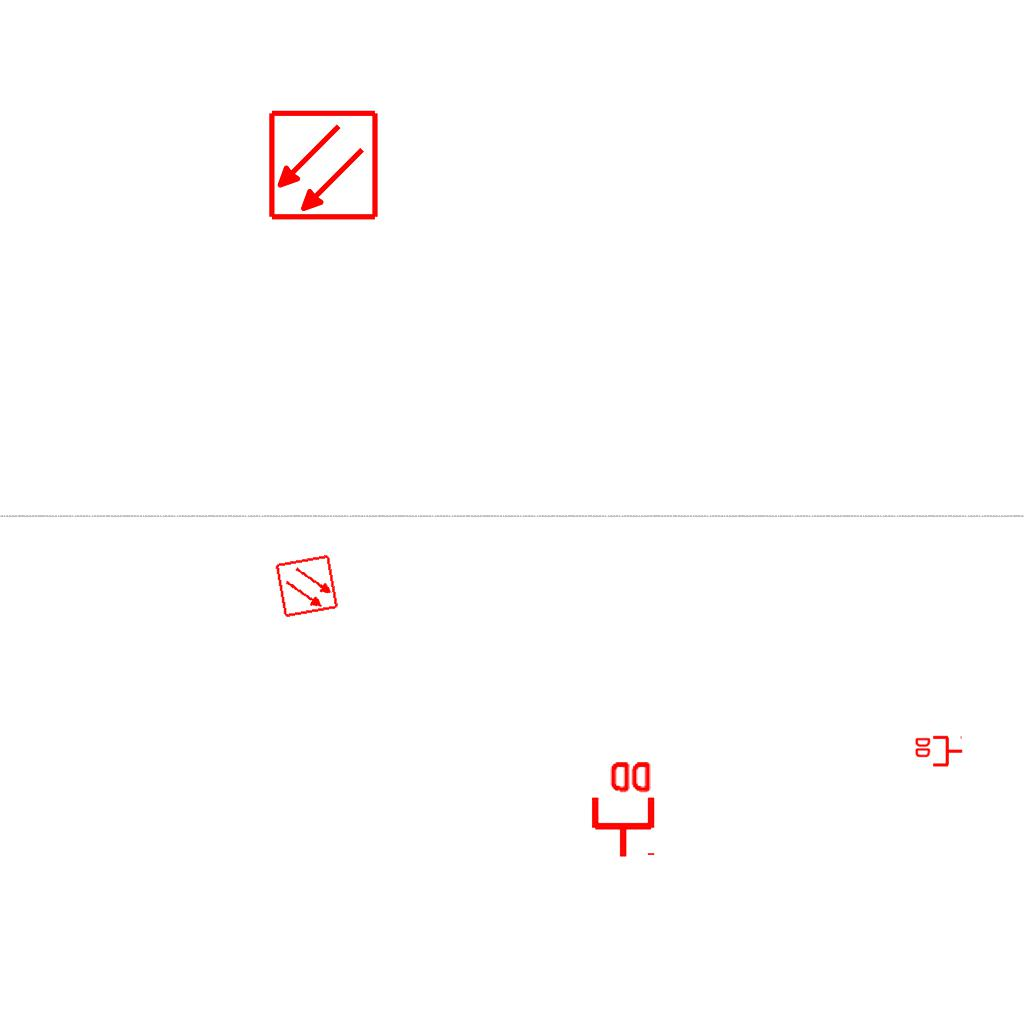Datenanschluss_zweifach: (587, 757, 656, 860), (913, 735, 964, 769)
RMO_Rauchmelder_optischer: (267, 109, 380, 222), (274, 553, 340, 619)
